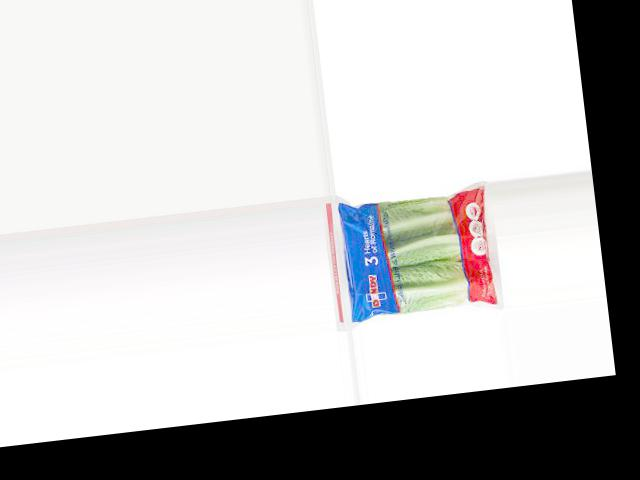lettuce: (334, 183, 505, 324)
